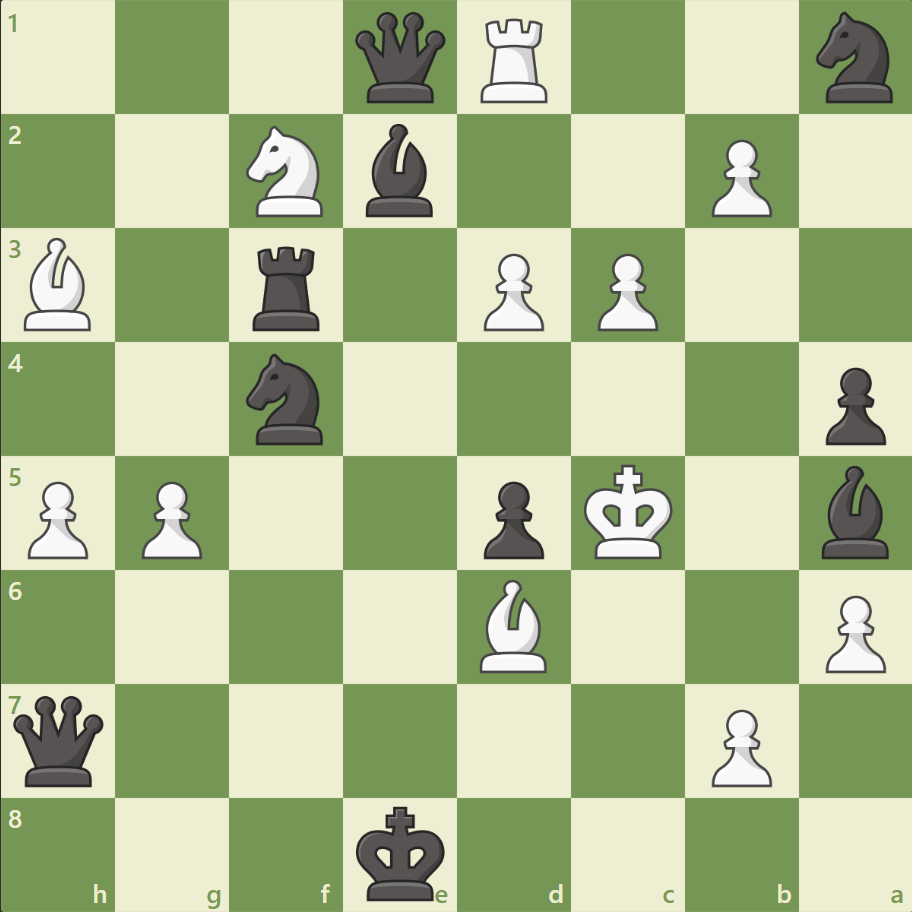B: (17, 233, 101, 336), (471, 574, 555, 676)
K: (579, 458, 679, 566)
N: (238, 121, 335, 223)
P: (701, 700, 776, 791), (133, 473, 208, 564), (20, 473, 95, 564), (474, 246, 549, 337), (701, 132, 776, 223), (815, 586, 889, 677), (588, 246, 662, 337)
R: (473, 12, 556, 109)
b: (812, 460, 896, 563), (358, 120, 442, 222)
k: (351, 798, 451, 906)
n: (806, 7, 903, 110), (238, 348, 335, 450)
p: (474, 473, 549, 564), (815, 359, 889, 450)
q: (10, 690, 109, 789), (351, 9, 450, 108)
r: (246, 239, 329, 336)
